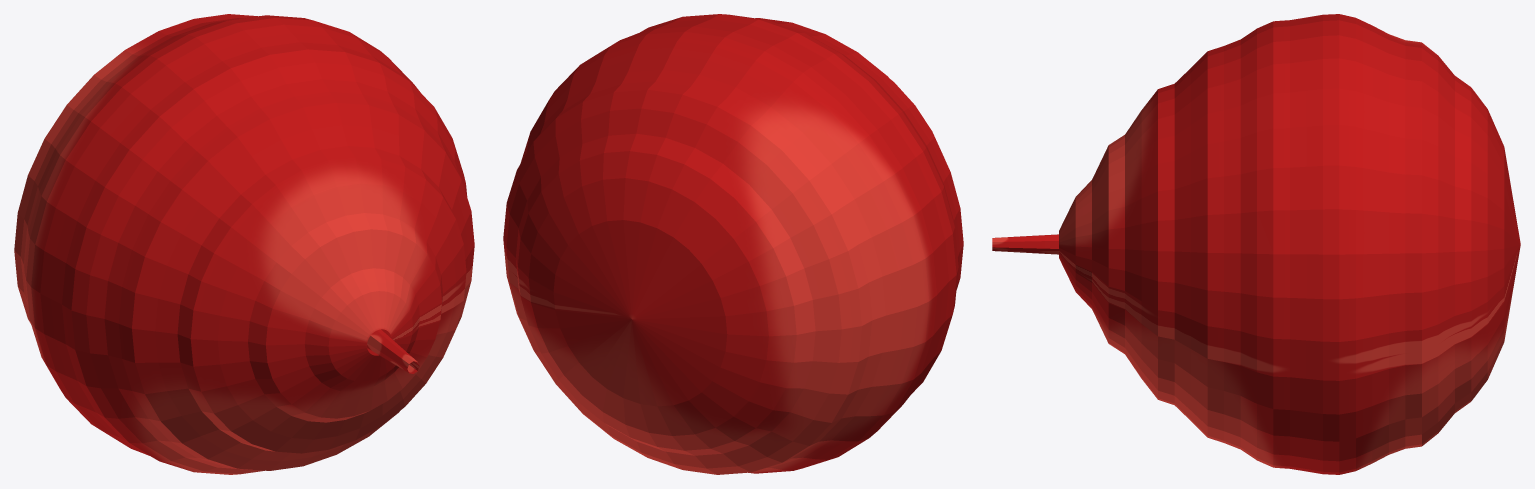
File: apple_06_realistic.obj
3 views of the same model, side by side, from view 1: azimuth 30°, elevation 25°; view 2: azimuth 150°, elevation 25°; view 3: azimuth 270°, elevation 25° (orthographic). The views are drawn at different scales.
Size of the model in its own units: 2 by 2 by 2.29.
1 material, 1 textured.
